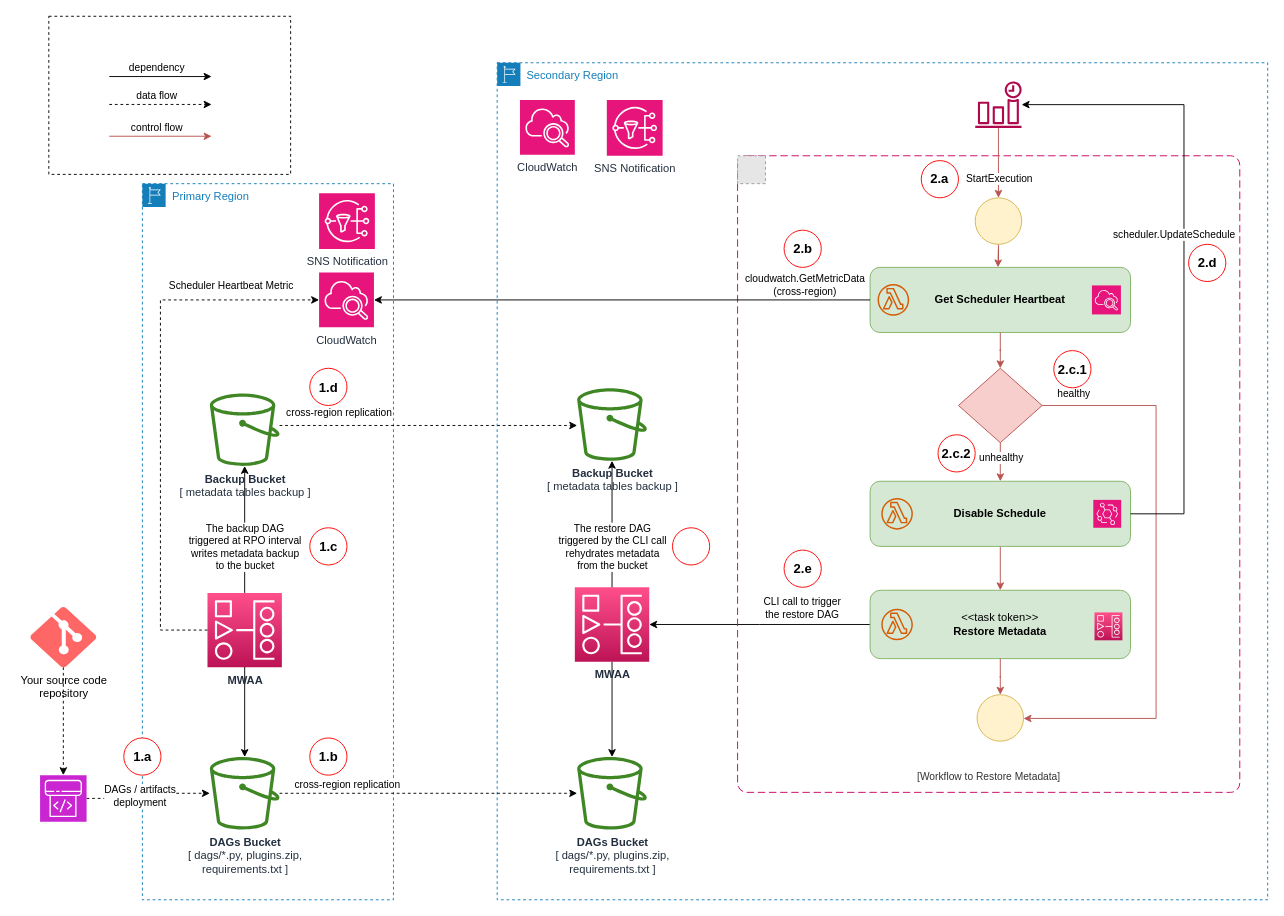
Image size: 1284x916. Some labels were removed from this diagram. Grey dashed boxes stand in for pictures. The shapes that lost their labels are listed below. From the top down, each one's centre as x and y in pixels, then its label:
At point (169, 94): "Legend".
At point (998, 104): "EventBridge Schedule".
At point (998, 220): "Start".
At point (1000, 405): "Check Heartbeat".
At point (691, 546): "2.f".
At point (1000, 717): "End".
At point (63, 798): "Your CICD pipeline".
